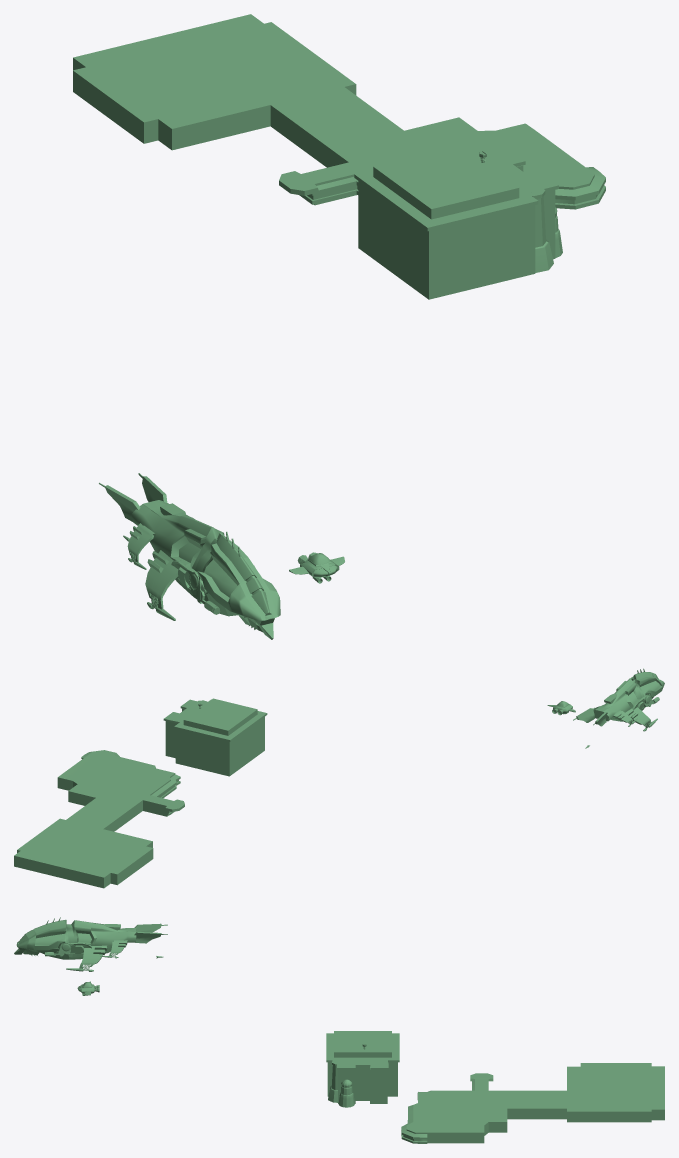
File: midground serperated.fbx
3 views of the same model, one above another, from view 1: azimuth 30°, elevation 25°; view 2: azimuth 150°, elevation 25°; view 3: azimuth 270°, elevation 25° (orthographic). The views are drawn at different scales.
Parts seen in each view (by area): view 1: Platform_C, base (×2), Blarg_Battleship1:wing_thing6, side_bulge; view 2: Platform_C, base (×2); view 3: Platform_C, base (×2), Blarg_Battleship1:wing_thing5, front_arch_GB.
Boxes of the visible parts, x1=… form: Platform_C: x1=73, y1=14, x2=605, y2=209; base (×2): x1=131, y1=145, x2=558, y2=639; Blarg_Battleship1:wing_thing6: x1=145, y1=550, x2=178, y2=609; side_bulge: x1=528, y1=189, x2=553, y2=272; Platform_C: x1=14, y1=750, x2=184, y2=888; base (×2): x1=163, y1=672, x2=664, y2=776; Platform_C: x1=401, y1=1063, x2=664, y2=1143; base (×2): x1=14, y1=919, x2=399, y2=1103; Blarg_Battleship1:wing_thing5: x1=79, y1=945, x2=107, y2=970; front_arch_GB: x1=338, y1=1079, x2=354, y2=1107.
Bounding box in the file's own units: 63.75 × 9.29 × 91.96.
